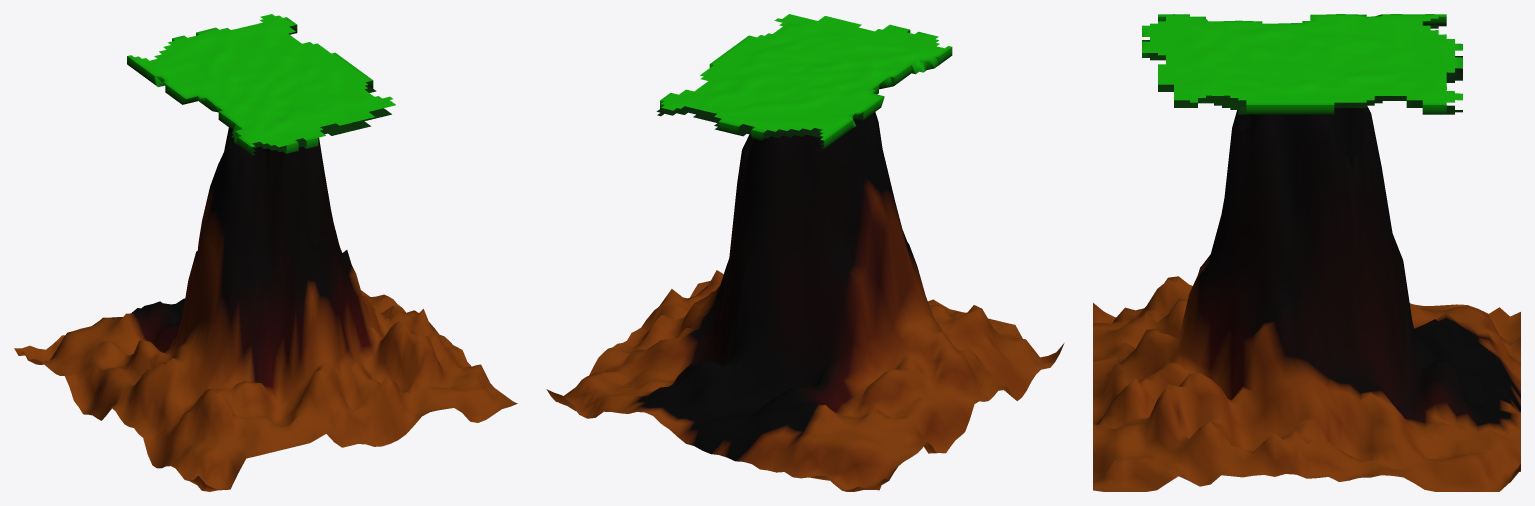
File: mountain.FBX
3 renders of one model, left to right at view 1: azimuth 30°, elevation 25°; view 2: azimuth 150°, elevation 25°; view 3: azimuth 270°, elevation 25°, orthographic. The views are drawn at different scales.
Parts seen in each view (by area): view 1: mountain, pitch; view 2: mountain, pitch; view 3: mountain, pitch.
Boxes of the visible parts, bbox=[...] form: mountain: bbox=[14, 127, 517, 491]; pitch: bbox=[127, 14, 395, 155]; mountain: bbox=[546, 112, 1064, 491]; pitch: bbox=[656, 14, 952, 148]; mountain: bbox=[1093, 106, 1520, 491]; pitch: bbox=[1142, 14, 1462, 114].
Bounding box in the file's own units: 8000 × 7501 × 8000.
